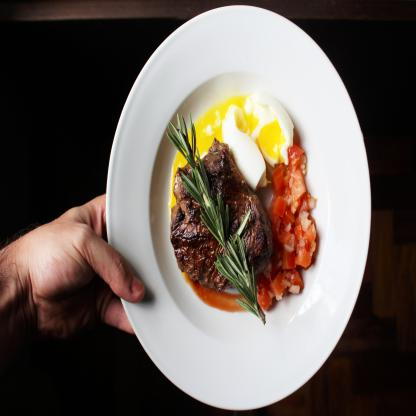Carne: (171, 148, 273, 282)
